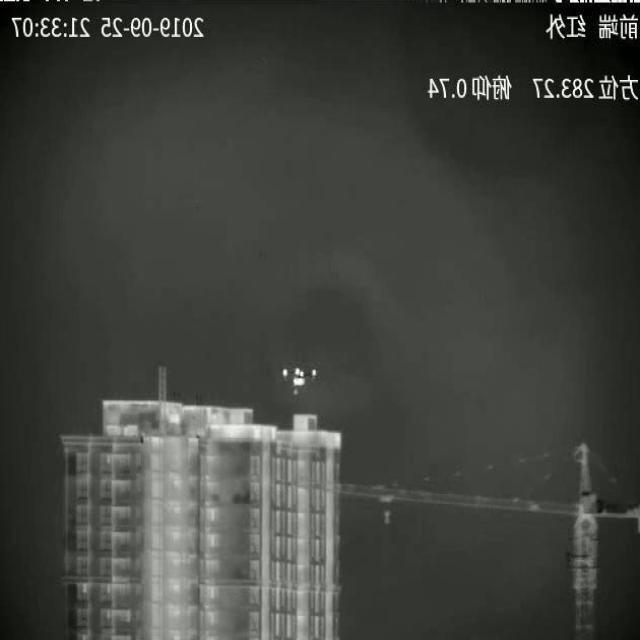drone: (283, 367, 310, 395), (311, 370, 317, 377)
